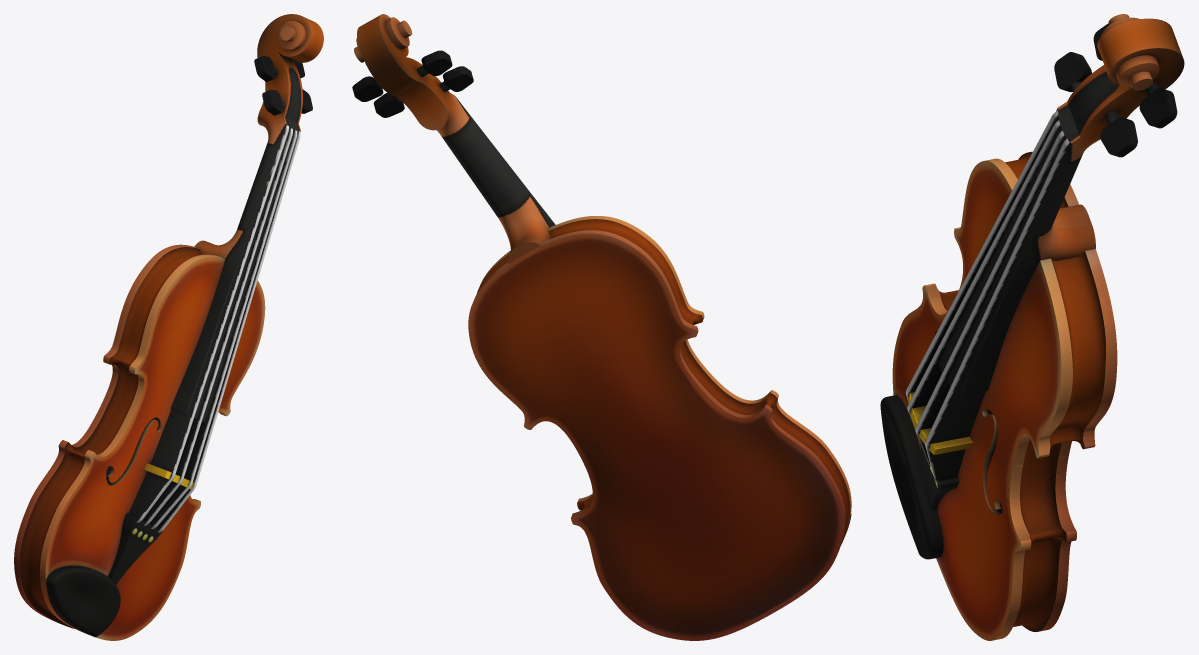
The model's file is violin.glb.
The picture shows the model from 3 angles, left to right: view 1: azimuth 30°, elevation 25°; view 2: azimuth 150°, elevation 25°; view 3: azimuth 270°, elevation 25°; orthographic projection. The views are drawn at different scales.
Visible parts, largest first — view 1: node_id54; view 2: node_id54; view 3: node_id54.
Boxes of the visible parts, bbox=[...] form: node_id54: bbox=[14, 14, 323, 640]; node_id54: bbox=[352, 14, 851, 640]; node_id54: bbox=[880, 14, 1184, 640].
Bounding box in the file's own units: 4.19 × 5.69 × 2.04.
Materials: 1 (1 with a texture image).
